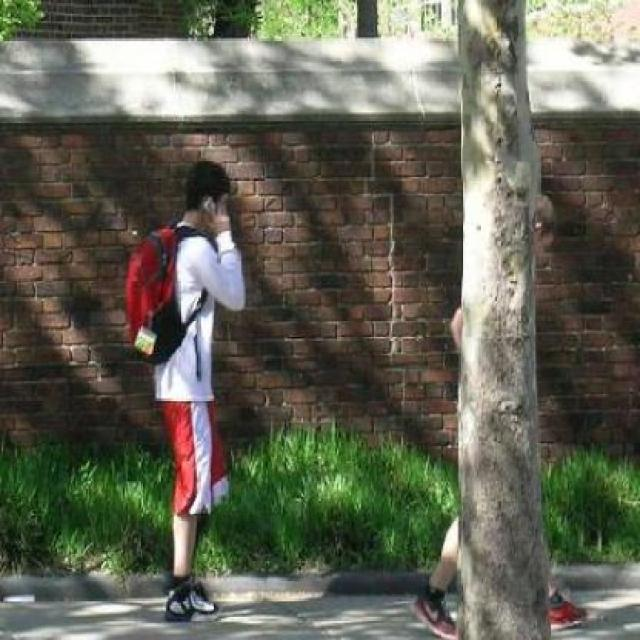Person: (126, 155, 254, 616)
